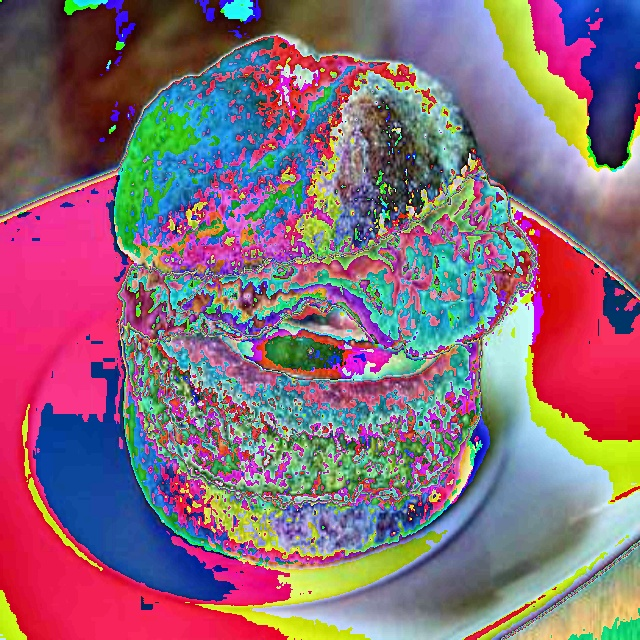background: (114, 31, 536, 566)
